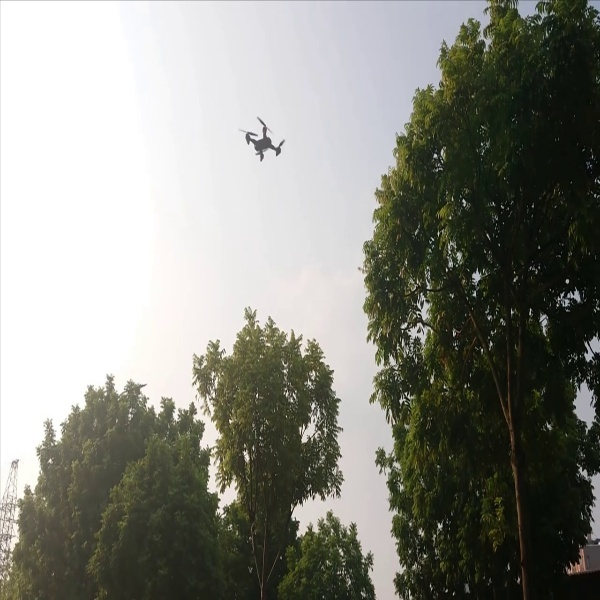drone: (235, 111, 289, 173)
